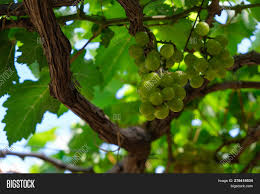grapes: (130, 33, 187, 124), (186, 21, 235, 86)
